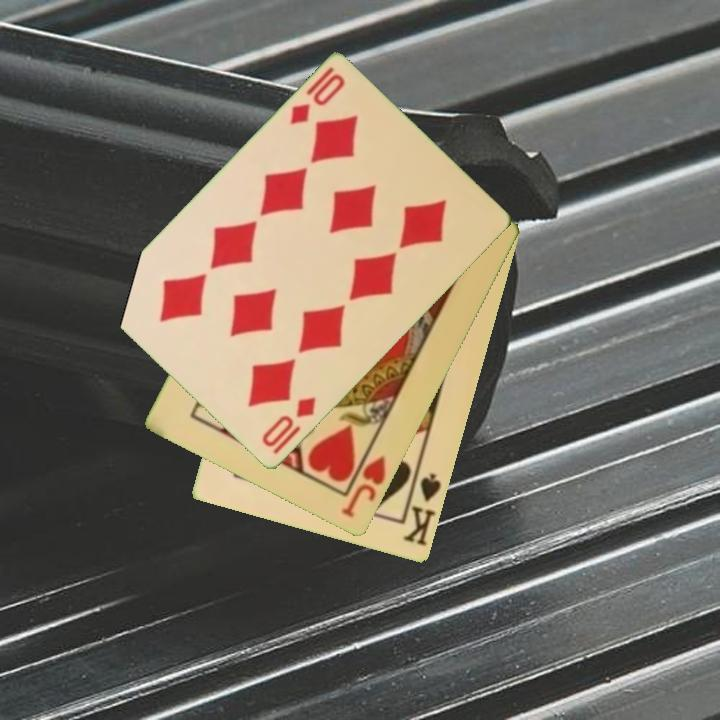10d: (286, 63, 348, 129), (258, 393, 319, 458)
Jh: (338, 451, 389, 522)
Ks: (400, 470, 445, 549)
